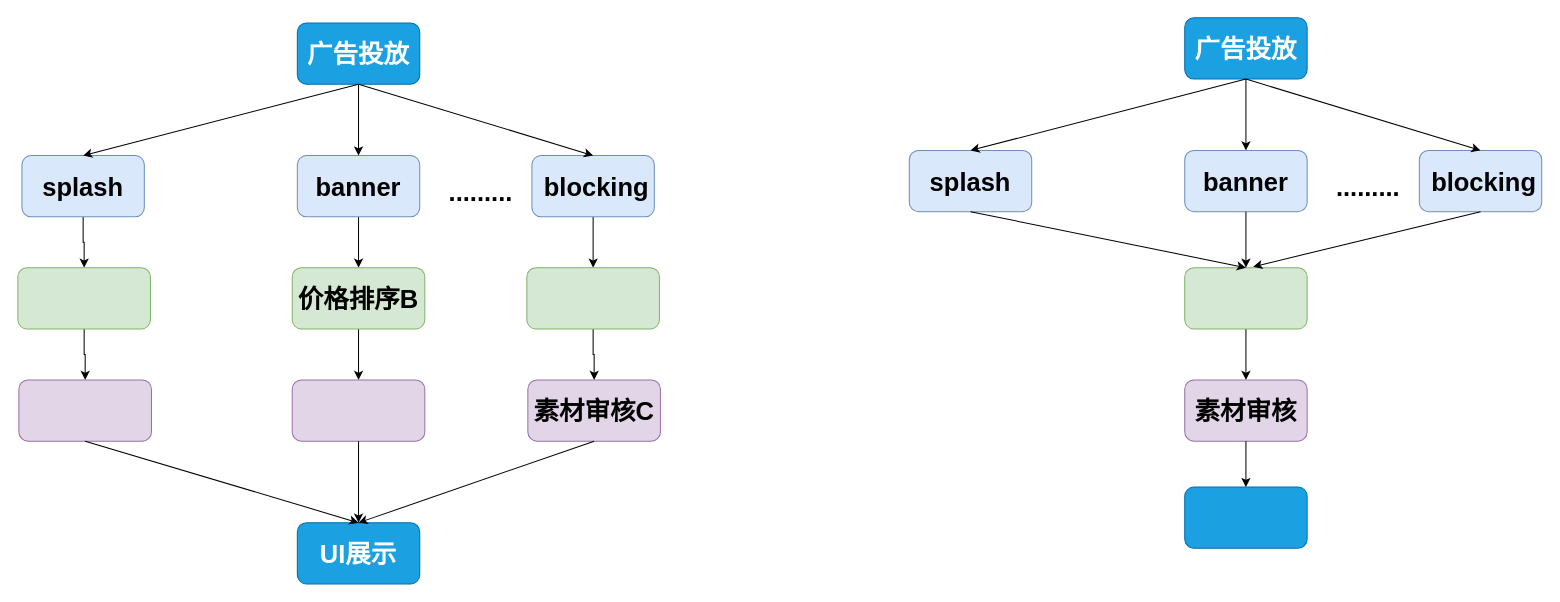
Some shapes in this 1560 by 602 pixel diagram are drawn without their labels. The shapes that lost their labels are listed below. From the top down, each one's centre as x and y in pixels, then its label:
At [83,298]: "价格排序A".
At [592,298]: "价格排序C".
At [1245,298]: "核心竞价".
At [84,410]: "素材审核A".
At [358,410]: "素材审核B".
At [1245,517]: "UI组件".
